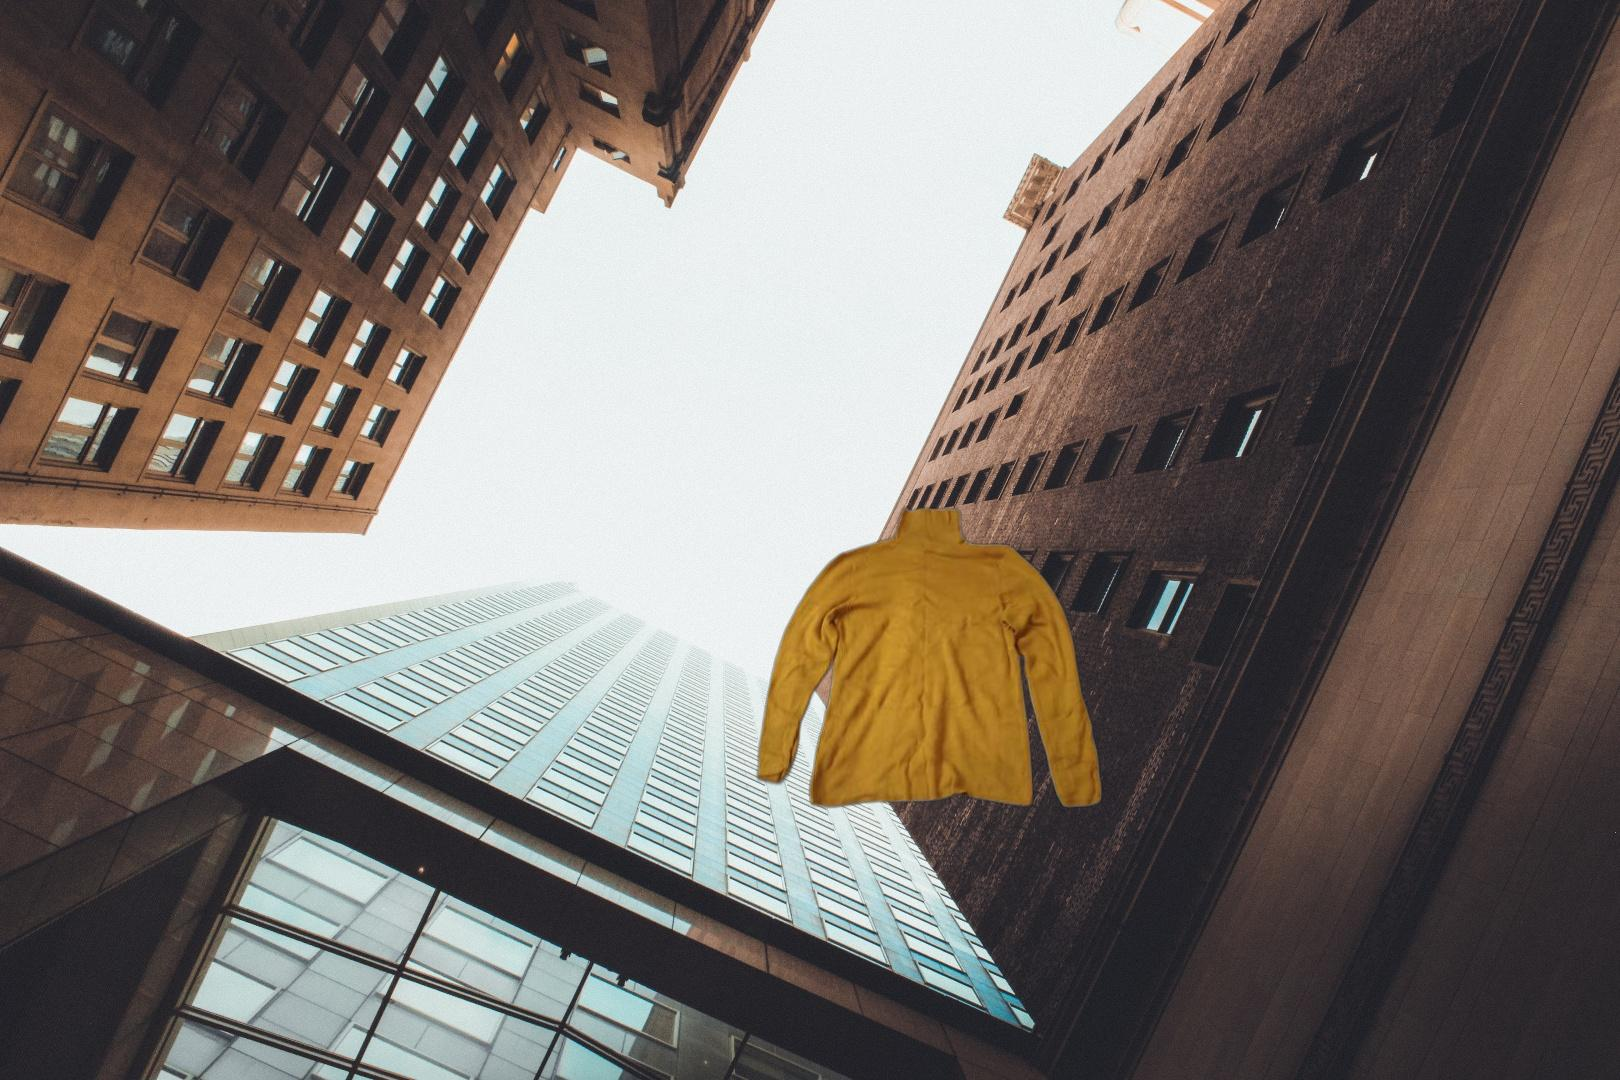clothes: (753, 503, 1105, 811)
